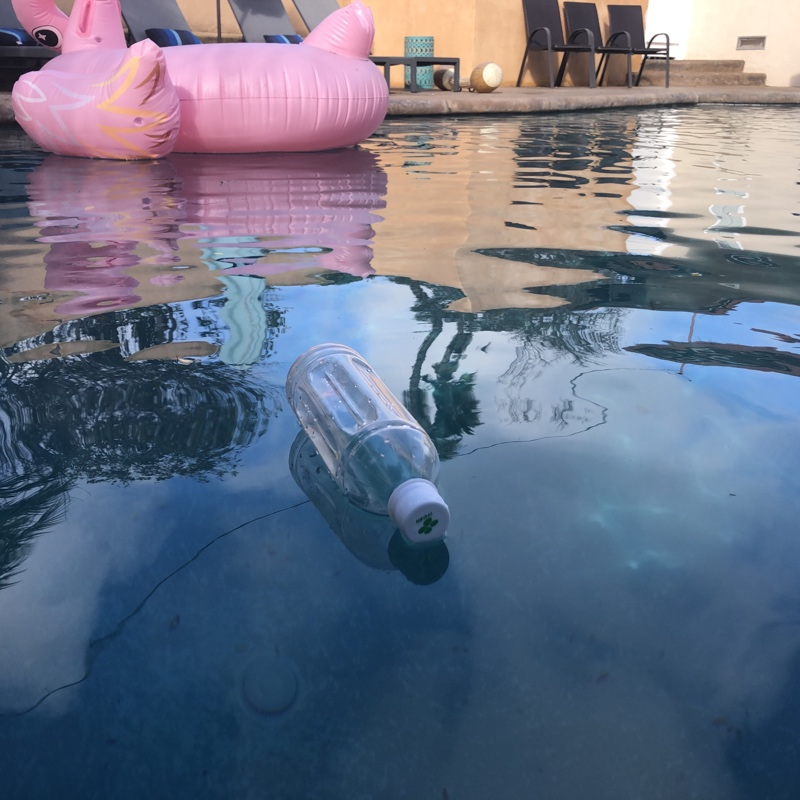Plastic Bottle: (281, 340, 454, 551)
